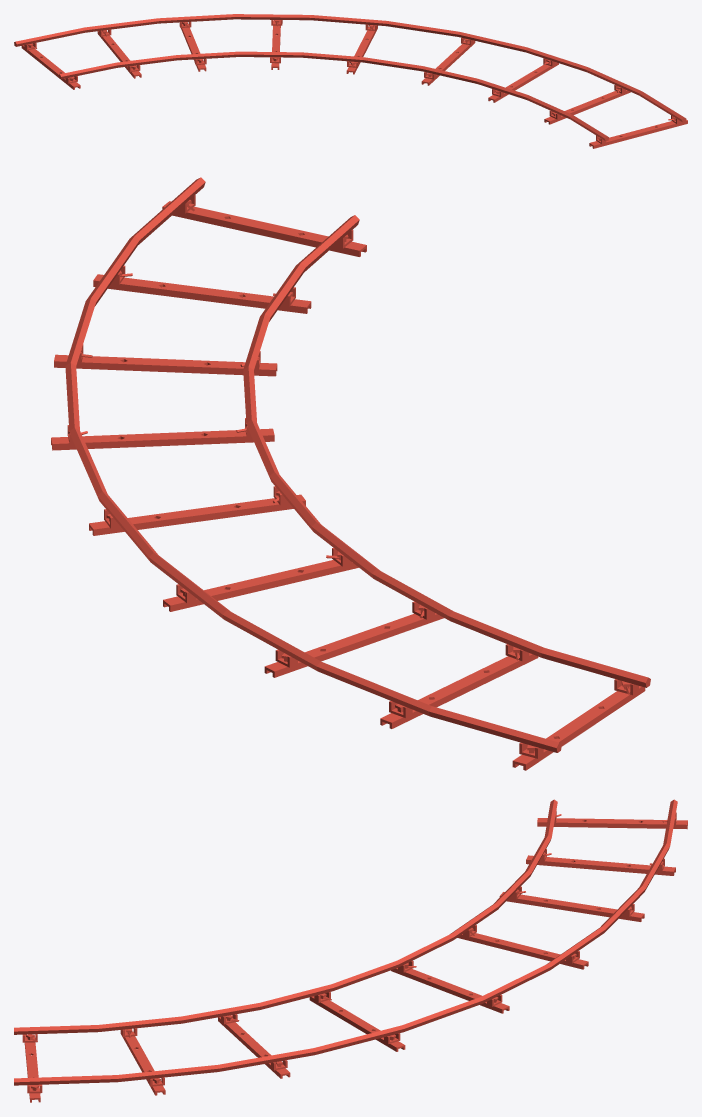
File: SM_Rail_Dolly_Turn.fbx
3 views of the same model, one above another, from view 1: azimuth 30°, elevation 25°; view 2: azimuth 150°, elevation 25°; view 3: azimuth 270°, elevation 25° (orthographic). The views are drawn at different scales.
Parts seen in each view (by area): view 1: SM_Rail_Dolly_Turn; view 2: SM_Rail_Dolly_Turn; view 3: SM_Rail_Dolly_Turn.
Boxes of the visible parts, bbox=[...] form: SM_Rail_Dolly_Turn: bbox=[14, 14, 687, 148]; SM_Rail_Dolly_Turn: bbox=[51, 177, 650, 770]; SM_Rail_Dolly_Turn: bbox=[14, 799, 687, 1102].
Size of the model in its own units: 337 by 338 by 9.77.
